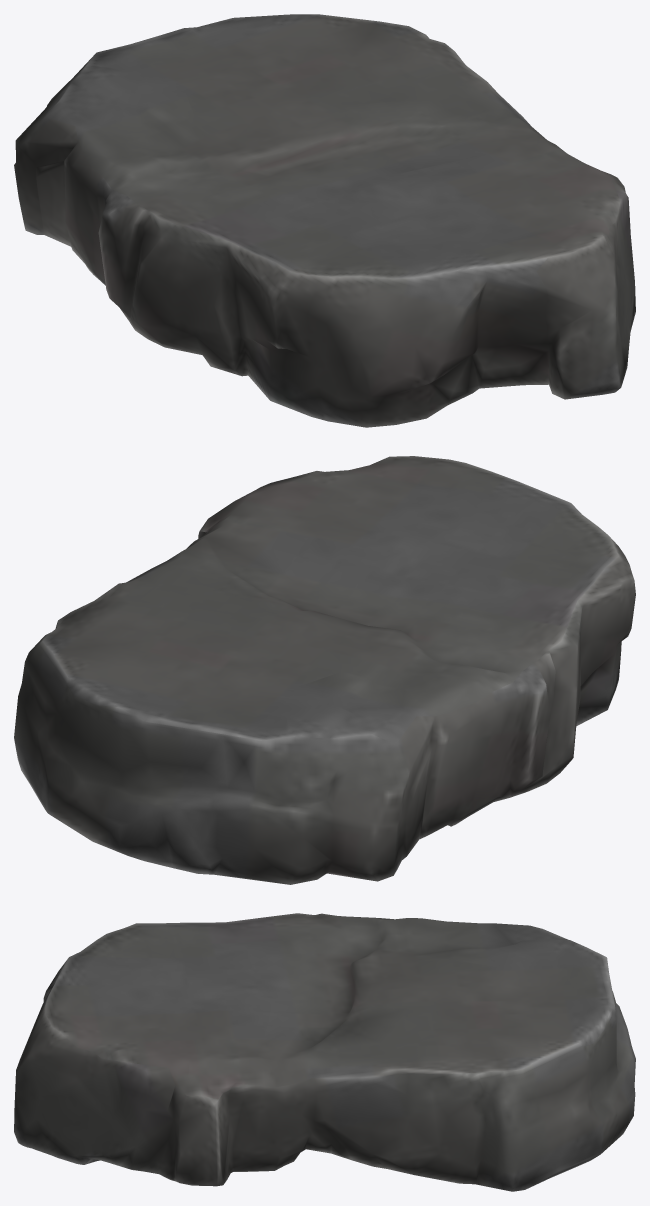
Rendered from SM_Cliff_01.glb.
The picture shows the model from 3 angles, top to bottom: view 1: azimuth 30°, elevation 25°; view 2: azimuth 150°, elevation 25°; view 3: azimuth 270°, elevation 25°; orthographic projection. The views are drawn at different scales.
Visible parts, largest first — view 1: SM_Cliff_01; view 2: SM_Cliff_01; view 3: SM_Cliff_01.
Boxes of the visible parts, x1,y1,x2,y2 form: SM_Cliff_01: (14,14,635,427); SM_Cliff_01: (14,456,635,884); SM_Cliff_01: (14,913,635,1191).
Size of the model in its own units: 5.42 by 1.74 by 7.84.
1 material, 1 textured.
